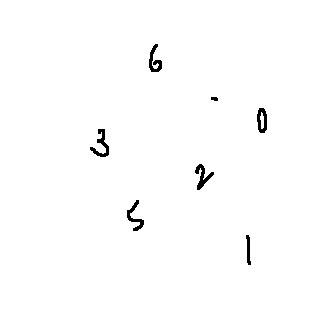.: (206, 90, 222, 110)
0: (251, 103, 279, 141)
1: (241, 225, 259, 272)
2: (188, 159, 219, 198)
3: (87, 124, 114, 163)
5: (119, 196, 155, 241)
6: (145, 40, 167, 75)
